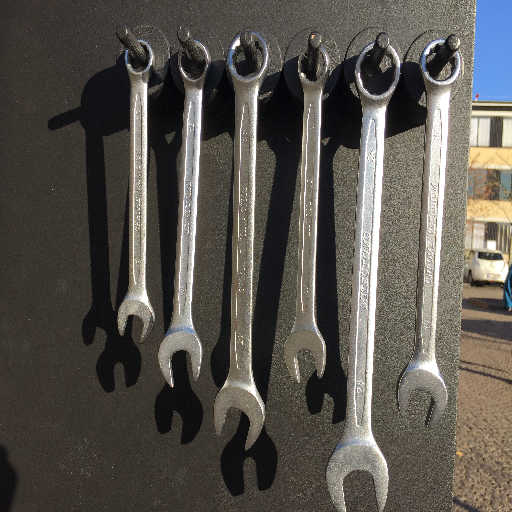bottom: (323, 434, 392, 512), (210, 378, 270, 453), (394, 358, 449, 430), (155, 327, 205, 391), (280, 325, 328, 385), (114, 292, 157, 346)
top: (352, 40, 405, 108), (224, 28, 273, 89), (415, 34, 463, 95), (175, 38, 214, 89), (295, 42, 334, 90), (119, 37, 160, 81)
